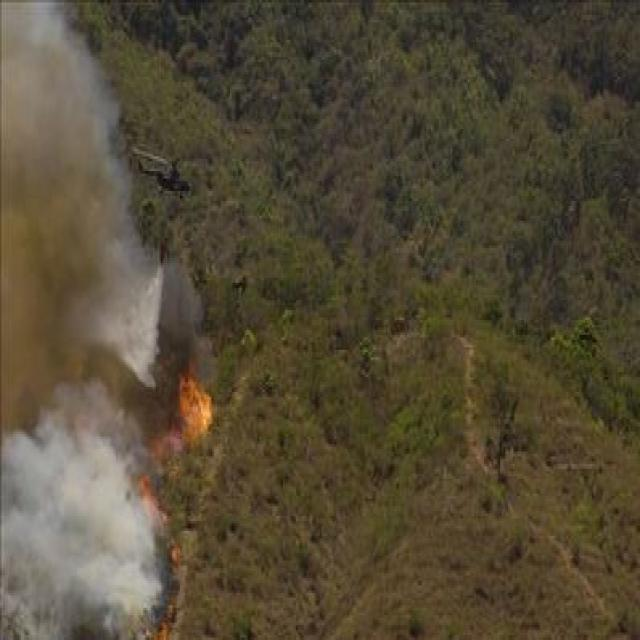Fire: (180, 375, 212, 443)
Smoke: (0, 0, 158, 620)
